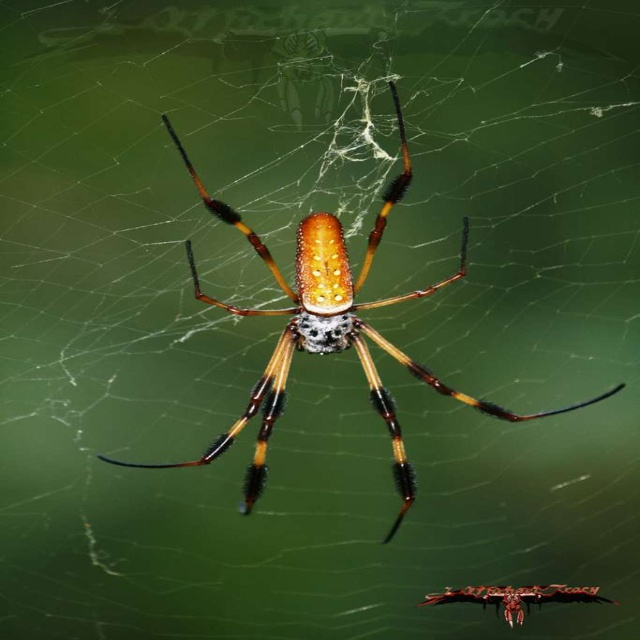Spider: (95, 79, 627, 547)
